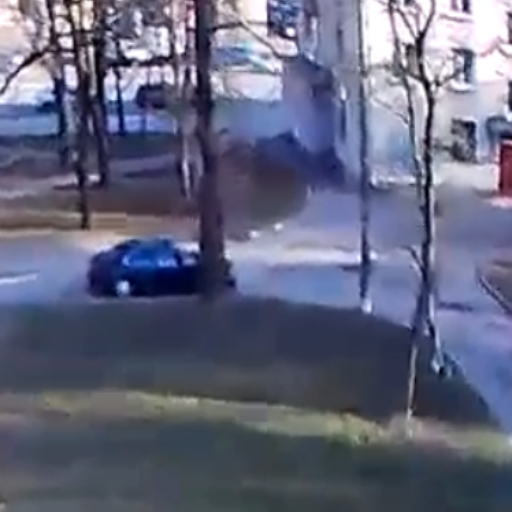Car: (91, 235, 231, 301)
